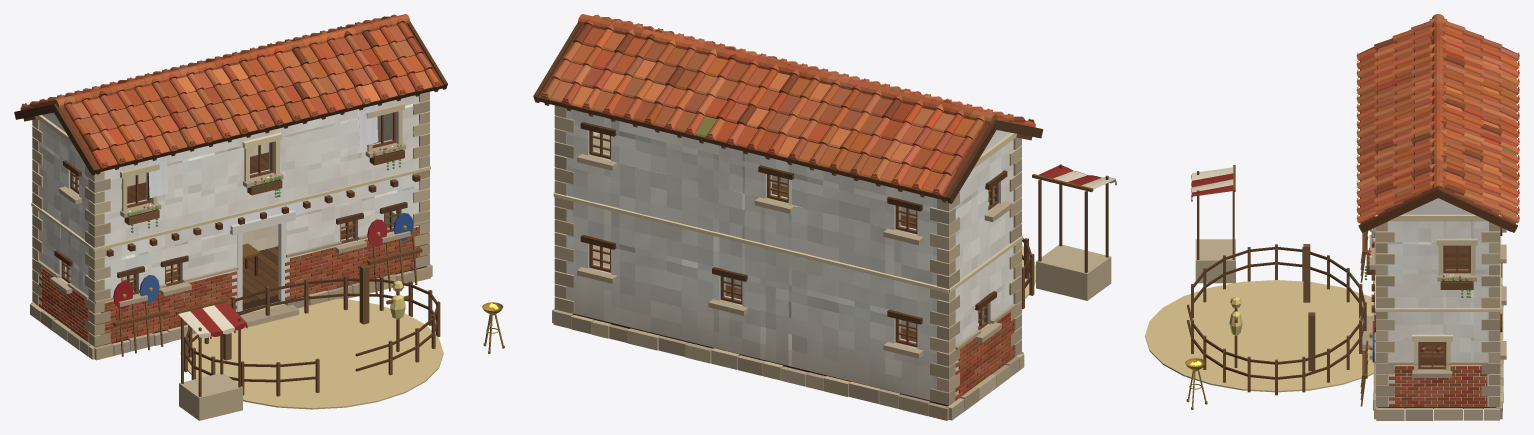
File: civ_ludus.glb
The picture shows the model from 3 angles, left to right: view 1: azimuth 30°, elevation 25°; view 2: azimuth 150°, elevation 25°; view 3: azimuth 270°, elevation 25°; orthographic projection. The views are drawn at different scales.
Visible parts, largest first — view 1: House, Walls, Rooms; view 2: House, Walls, Rooms; view 3: House, Walls, Rooms.
Part boxes in pixels (bbox=[...]): House: bbox=[14, 14, 504, 420]; Walls: bbox=[39, 95, 421, 335]; Rooms: bbox=[69, 113, 395, 304]; House: bbox=[533, 14, 1116, 420]; Walls: bbox=[557, 109, 1014, 400]; Rooms: bbox=[594, 133, 989, 341]; House: bbox=[1145, 14, 1519, 420]; Walls: bbox=[1378, 198, 1498, 406]; Rooms: bbox=[1420, 245, 1468, 365].
Bounding box in the file's own units: 8.11 × 5.2 × 7.41.
8 materials, 8 textured.
